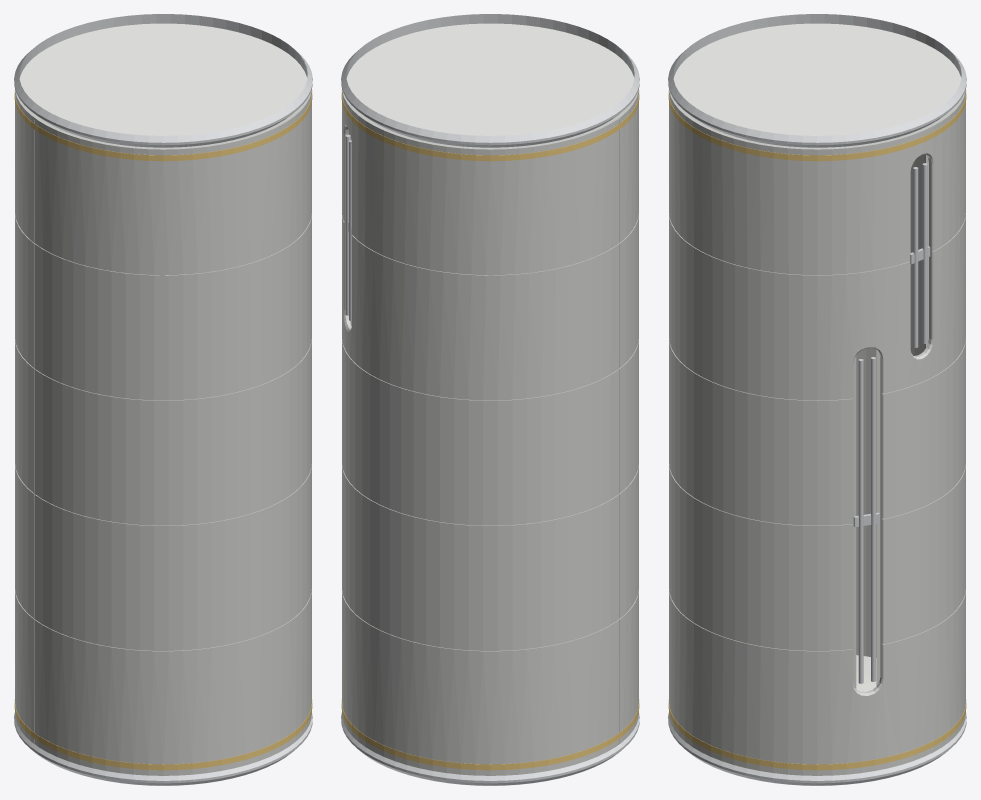
Rendered from ax_tank_05_hydrolox_l_long.glb.
3 views of the same model, side by side, from view 1: azimuth 30°, elevation 25°; view 2: azimuth 150°, elevation 25°; view 3: azimuth 270°, elevation 25° (orthographic).
Visible parts, largest first — view 1: mli_blanket, dome_caps, end_rings, blanket_bands; view 2: mli_blanket, dome_caps, end_rings, blanket_bands, raceway_lines; view 3: mli_blanket, dome_caps, end_rings, raceway_lines, blanket_bands.
Part boxes in pixels (x1=…): mli_blanket: x1=15, y1=89, x2=311, y2=775; dome_caps: x1=19, y1=23, x2=307, y2=135; end_rings: x1=14, y1=14, x2=312, y2=785; blanket_bands: x1=14, y1=90, x2=312, y2=770; mli_blanket: x1=342, y1=89, x2=638, y2=775; dome_caps: x1=346, y1=23, x2=634, y2=135; end_rings: x1=341, y1=14, x2=639, y2=785; blanket_bands: x1=341, y1=90, x2=639, y2=770; raceway_lines: x1=345, y1=135, x2=352, y2=322; mli_blanket: x1=669, y1=89, x2=965, y2=775; dome_caps: x1=673, y1=23, x2=961, y2=691; end_rings: x1=668, y1=14, x2=966, y2=785; raceway_lines: x1=853, y1=163, x2=930, y2=683; blanket_bands: x1=668, y1=90, x2=966, y2=770.
Bounding box in the file's own units: 3.75 × 9 × 3.75.
